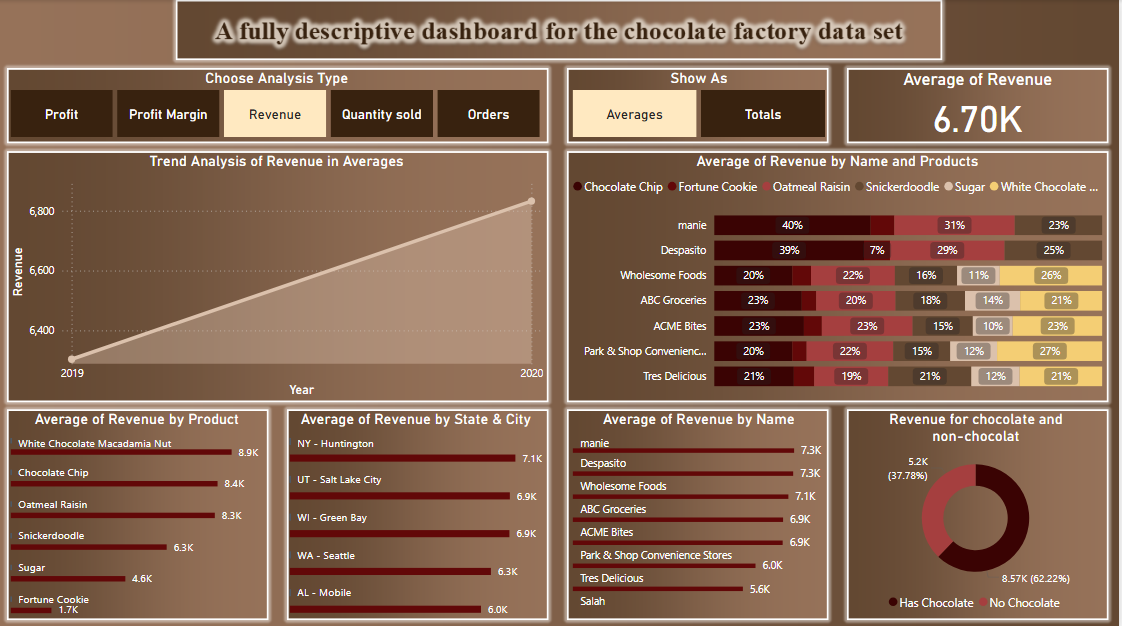

This screenshot's page, from the dashboard's own definition file:
{"tool":"powerbi","page":{"name":"Page 4","canvas":[1280,720],"ordinal":4},"visuals":[{"type":"hundredPercentStackedBarChart","fields":{"Y":["All measures.Just Total Orders"],"Category":["Customers.Name"],"Series":["Orders.Product"]},"box":[650,174,615.8,285],"z":0},{"type":"clusteredBarChart","fields":{"Y":["All measures.Switch measure rank","All measures.Just Total Orders"],"Category":["Customers.State"]},"box":[327.4,468.3,299.2,238.8],"z":1000},{"type":"areaChart","fields":{"Y":["All measures.Just Total Orders"],"Category":["Date_Table.Date.Variation.Date Hierarchy.Year","Date_Table.Date.Variation.Date Hierarchy.Month"]},"box":[8.1,174,618.5,284],"z":2000},{"type":"advancedSlicerVisual","title":"Choose Analysis Type","fields":{"Values":["Analysis Type.Analysis Type"]},"box":[8,79,619,83],"z":3000},{"type":"clusteredBarChart","fields":{"Y":["All measures.Switch measure rank","All measures.Just Total Orders"],"Category":["Orders.Product"]},"box":[8.1,468.3,299.2,238.8],"z":4000},{"type":"clusteredBarChart","fields":{"Y":["All measures.bla bla","All measures.Just Total Orders"],"Category":["Customers.Name"]},"box":[650,468,299,239],"z":5000},{"type":"donutChart","fields":{"Y":["All measures.Just Total Orders"],"Category":["Orders.has chocolate"]},"box":[967.4,468.3,299.2,238.8],"z":6000},{"type":"advancedSlicerVisual","fields":{"Values":["Table.Column1"]},"box":[650.3,78.9,299.4,83.4],"z":8000},{"type":"card","fields":{"Values":["All measures.Just Total Orders"]},"box":[970.1,79.2,296.5,83.2],"z":9001}]}

Visuals, with their boxes in screenshot pixels (x1, y1, x2, y2), scaled from the page's 1280x720 canvas onto the 1122x626 screenshot:
hundredPercentStackedBarChart - All measures.Just Total Orders x Customers.Name: pyautogui.locateOnScreen(570, 151, 1110, 399)
clusteredBarChart - All measures.Switch measure rank x All measures.Just Total Orders: pyautogui.locateOnScreen(287, 407, 549, 615)
areaChart - All measures.Just Total Orders x Date_Table.Date.Variation.Date Hierarchy.Year: pyautogui.locateOnScreen(7, 151, 549, 398)
"Choose Analysis Type" advancedSlicerVisual: pyautogui.locateOnScreen(7, 69, 550, 141)
clusteredBarChart - All measures.Switch measure rank x All measures.Just Total Orders: pyautogui.locateOnScreen(7, 407, 269, 615)
clusteredBarChart - All measures.bla bla x All measures.Just Total Orders: pyautogui.locateOnScreen(570, 407, 832, 615)
donutChart - All measures.Just Total Orders x Orders.has chocolate: pyautogui.locateOnScreen(848, 407, 1110, 615)
advancedSlicerVisual - Table.Column1: pyautogui.locateOnScreen(570, 69, 832, 141)
card - All measures.Just Total Orders: pyautogui.locateOnScreen(850, 69, 1110, 141)
